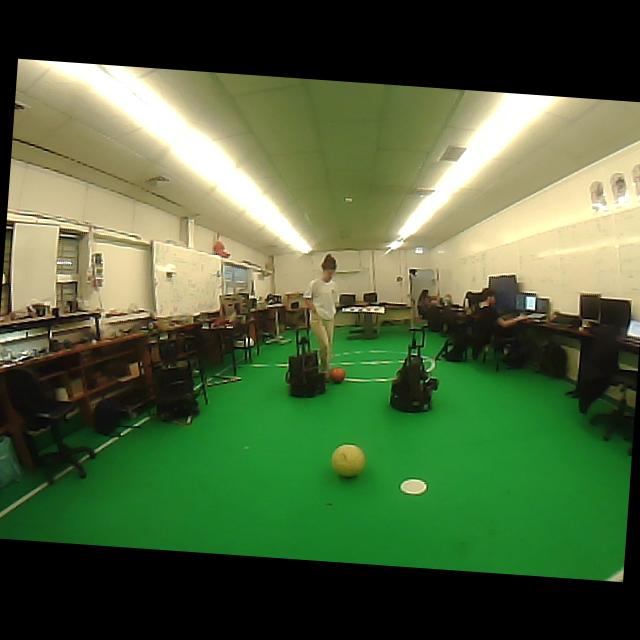ball: (331, 444, 365, 477), (329, 367, 345, 382)
robot: (389, 327, 438, 411), (152, 359, 198, 420), (285, 326, 325, 396)
